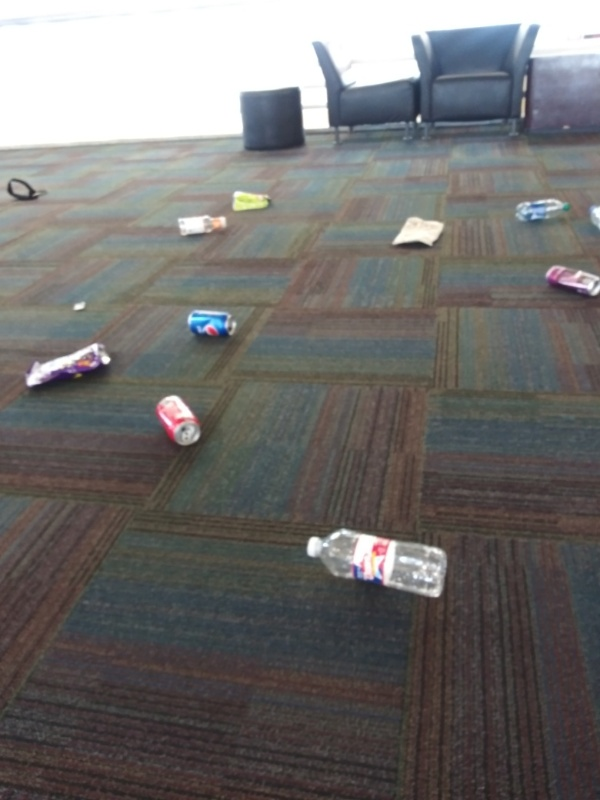bag: (21, 338, 116, 393), (384, 214, 453, 249), (229, 188, 275, 214)
bottle: (299, 524, 449, 607), (512, 196, 576, 229), (173, 210, 233, 239), (583, 198, 600, 232)
can: (149, 392, 204, 451), (539, 259, 600, 300), (180, 306, 240, 341)
